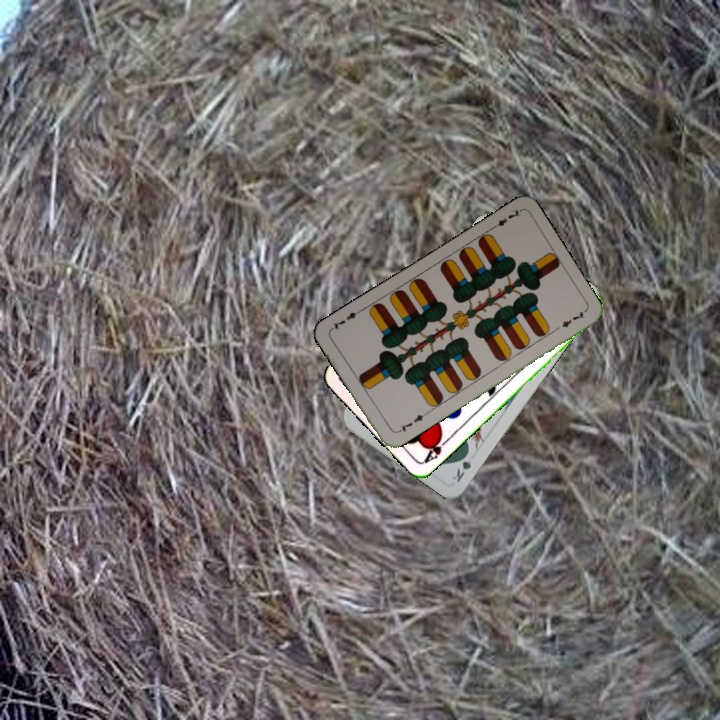E7: (392, 409, 429, 436), (487, 205, 523, 232)
GK: (448, 447, 475, 485)
HA: (419, 430, 452, 466)
